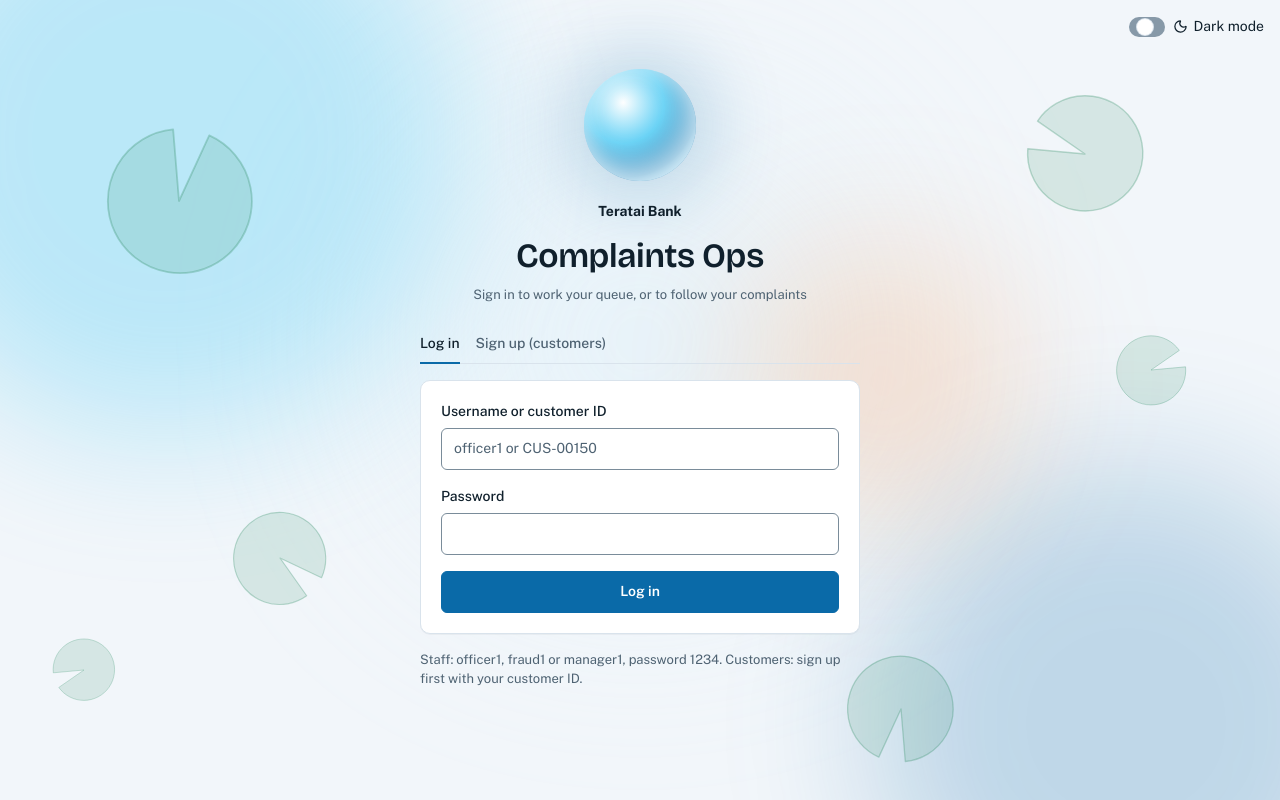
Test case: sign-in › lands staff on their role's first page
Step 1. Type "officer1" into the field labelled "Username or customer ID" → {"x": 640, "y": 448}, box [441, 428, 839, 470]
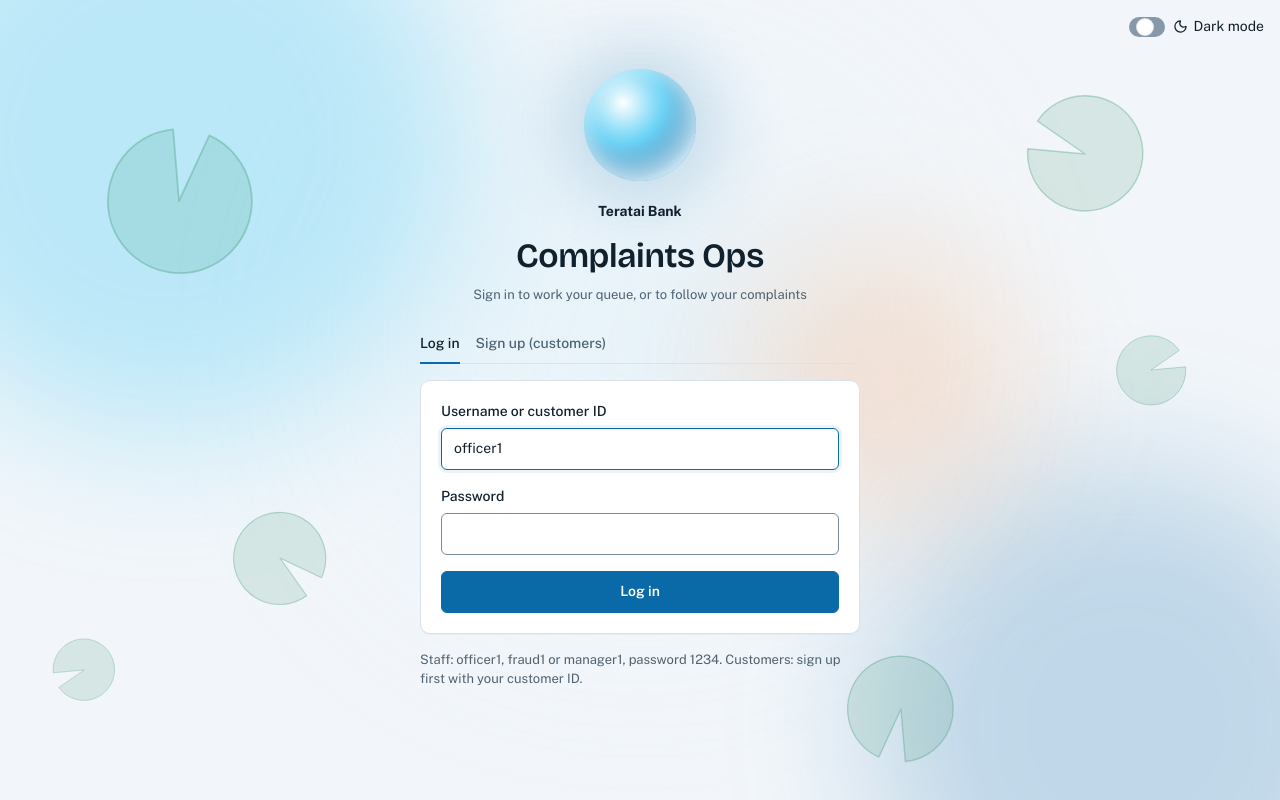
Step 2. Type "1234" into the password field labelled "Password" → {"x": 640, "y": 534}, box [441, 512, 839, 554]
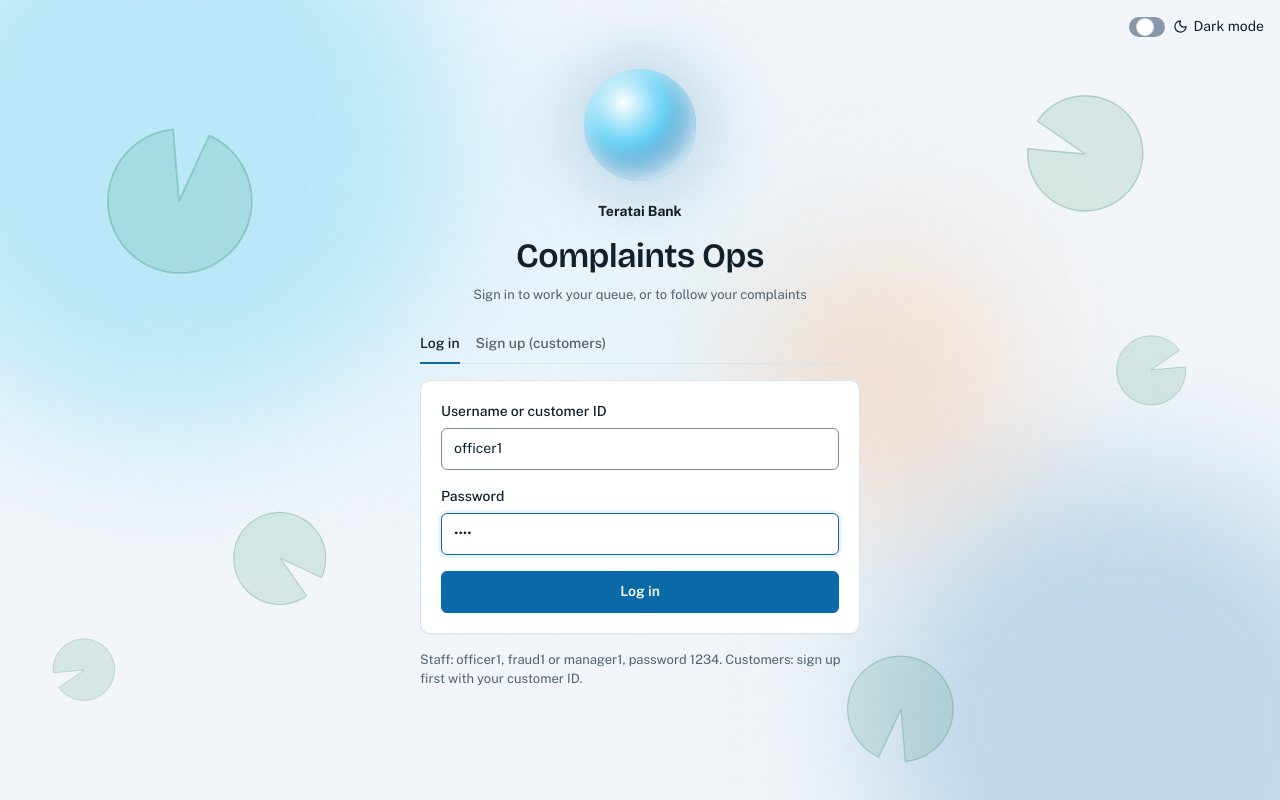
Step 3. Click the button "Log in" → {"x": 640, "y": 592}, box [441, 570, 839, 612]
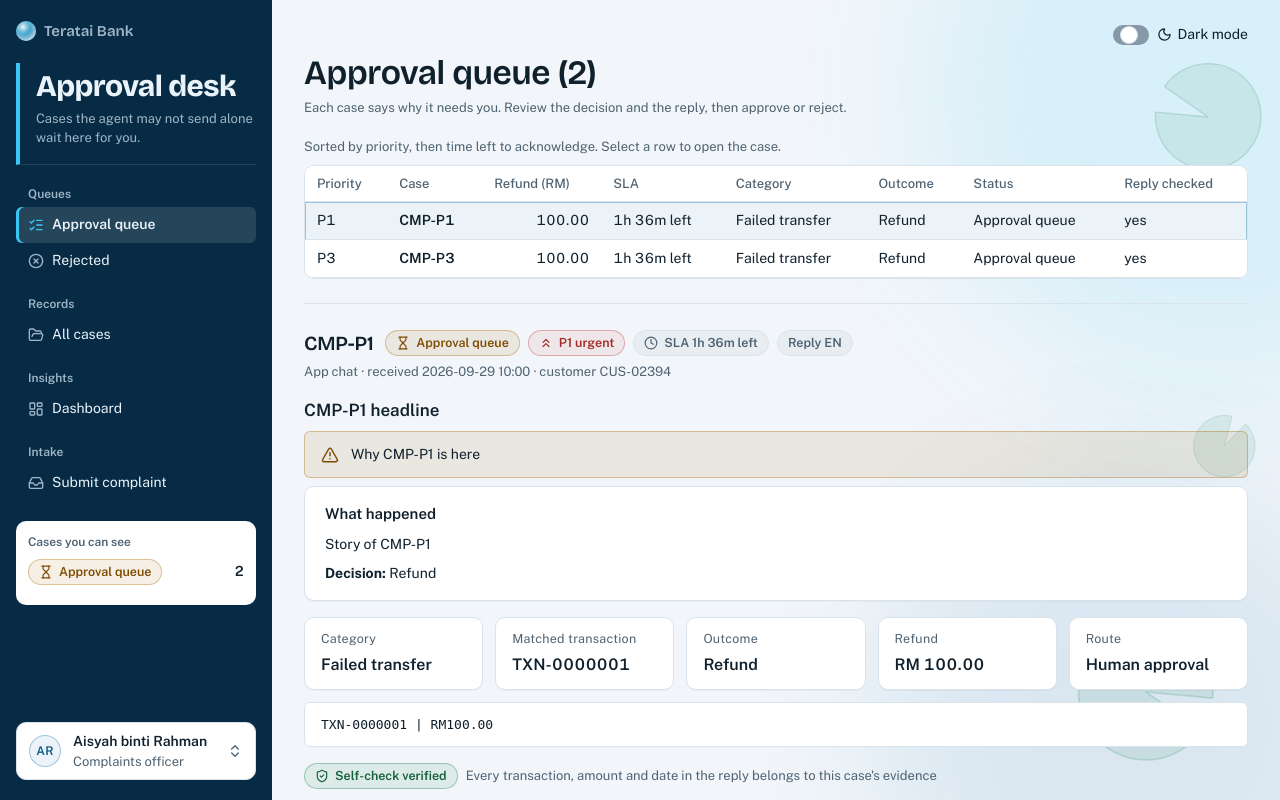
Expected: the heading "Approval queue (2)" is shown, [304, 52, 596, 93]
Expected: the text "Aisyah binti Rahman" is shown, [73, 730, 215, 752]
